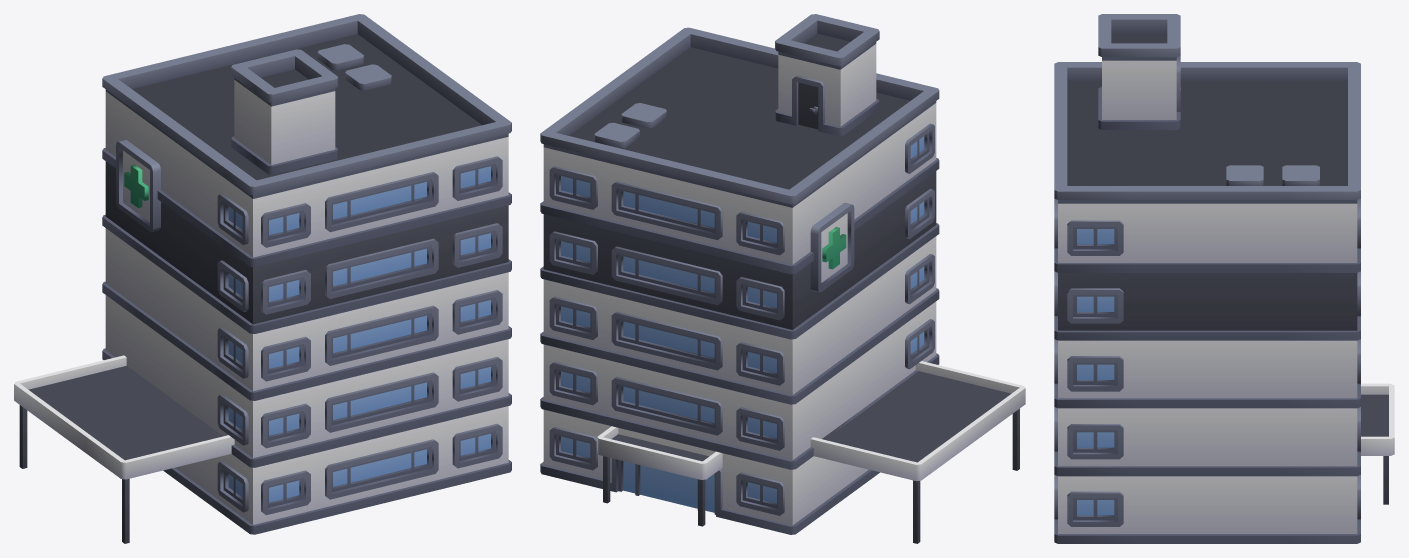
File: building-n.glb
The picture shows the model from 3 angles, left to right: view 1: azimuth 30°, elevation 25°; view 2: azimuth 150°, elevation 25°; view 3: azimuth 270°, elevation 25°; orthographic projection. The views are drawn at different scales.
Visible parts, largest first — view 1: building-n; view 2: building-n; view 3: building-n.
Boxes of the visible parts, box(x1,y1,x2,y2) form: building-n: box(14, 14, 511, 543); building-n: box(540, 14, 1025, 543); building-n: box(1054, 14, 1394, 543).
Bounding box in the file's own units: 2.32 × 2.48 × 1.82.
Materials: 1 (1 with a texture image).
